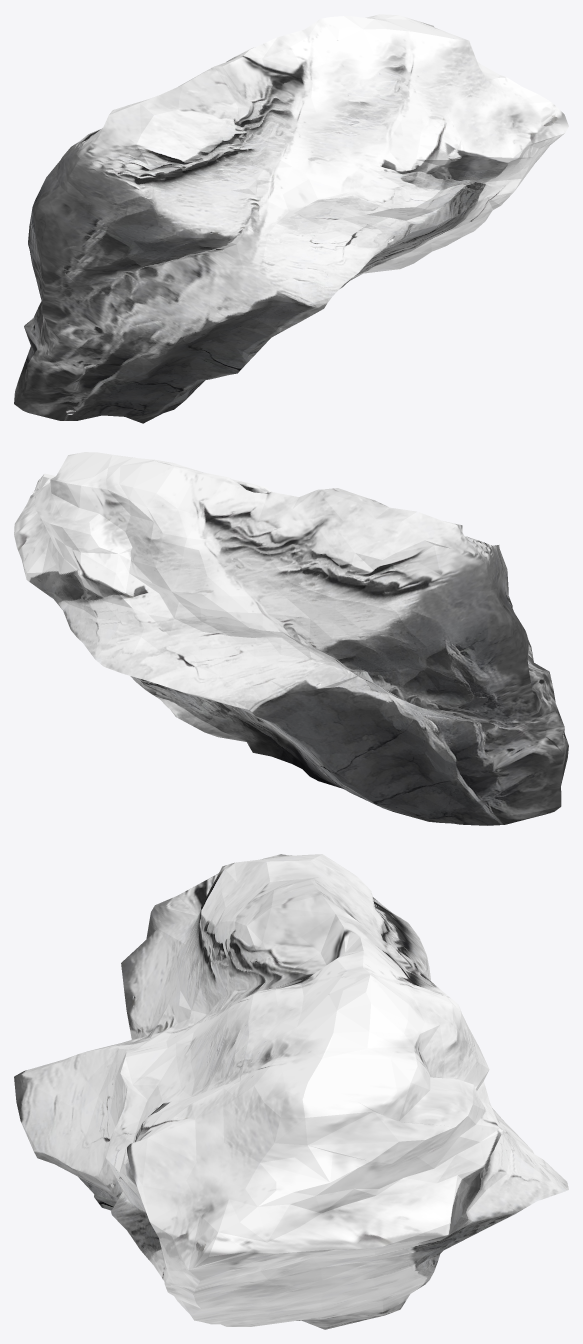
The picture shows the model from 3 angles, top to bottom: view 1: azimuth 30°, elevation 25°; view 2: azimuth 150°, elevation 25°; view 3: azimuth 270°, elevation 25°; orthographic projection. The views are drawn at different scales.
Visible parts, largest first — view 1: StoneA; view 2: StoneA; view 3: StoneA.
Boxes of the visible parts, box(x1,y1,x2,y2) form: StoneA: box(14, 14, 568, 423); StoneA: box(14, 452, 568, 825); StoneA: box(14, 854, 568, 1329).
Size of the model in its own units: 1.21 by 0.6884 by 0.752.
1 material, 1 textured.
